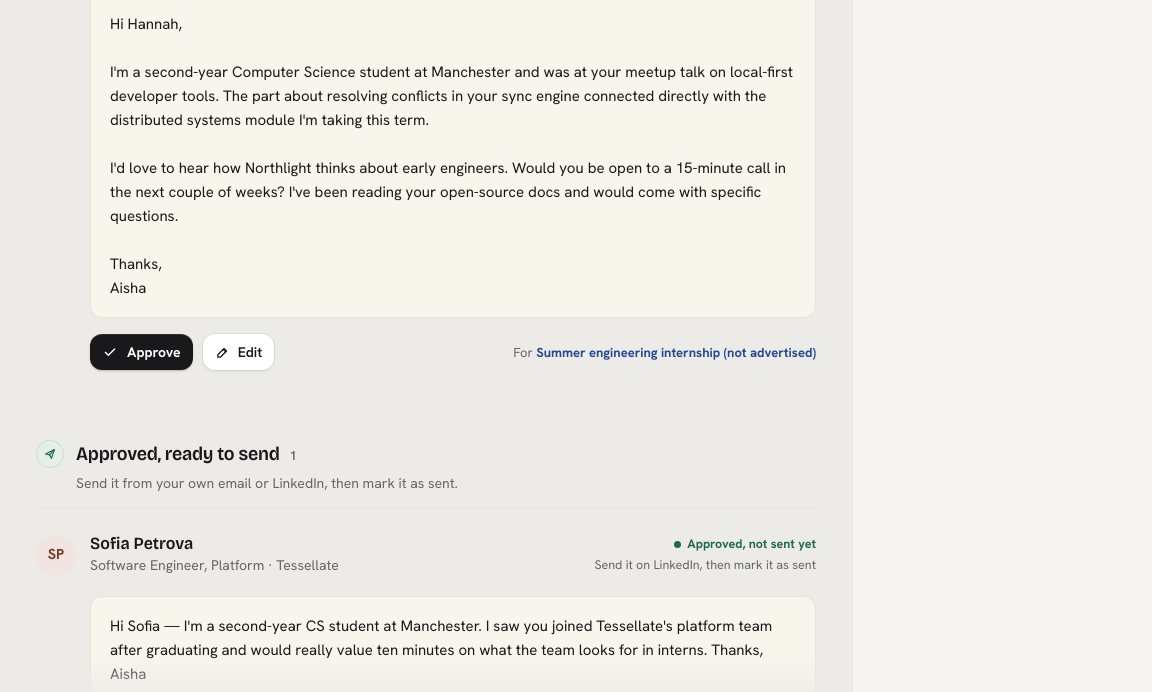
Test case: production Outreach — approval workflow › approving moves it to ready to send; editing it sends it back for approval
This screenshot has width=1152, height=692.
(page scrolled)
Click the button "Approve" at (141, 352), box [90,334,193,370]
(page scrolled)
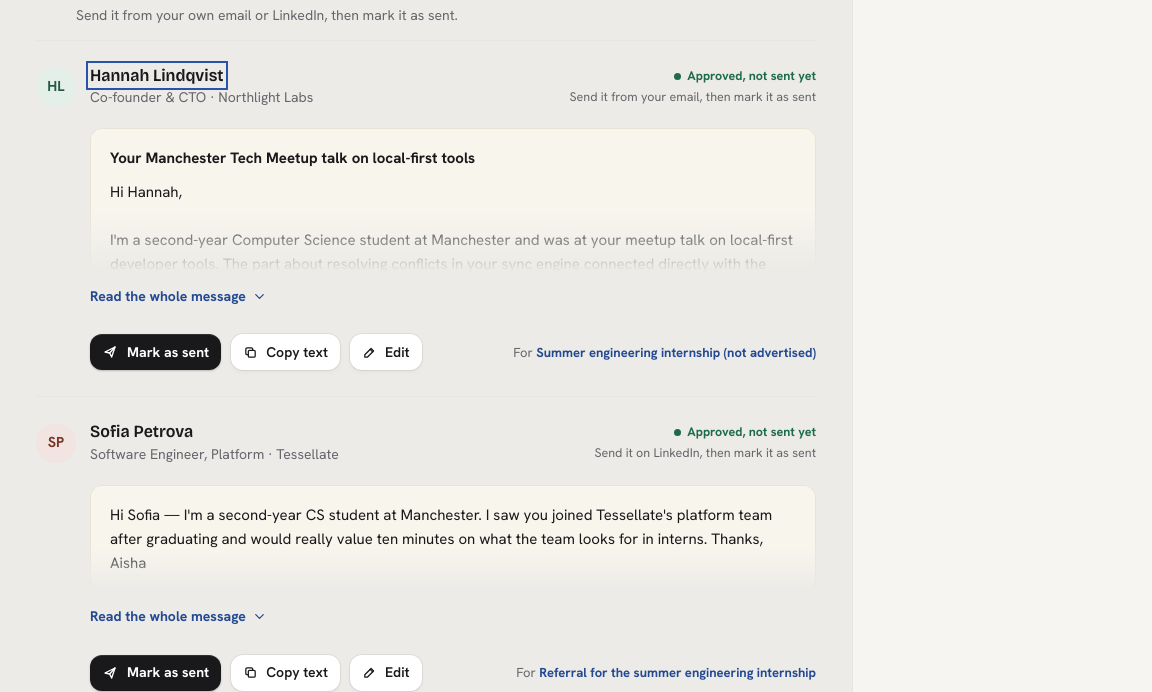
Now the text "Approved, not sent yet" is shown, box [674,67,816,86]
Now the button "Mark as sent" below "Hannah Lindqvist" is shown, box [90,334,221,370]
Now the button "Read the whole message" below "Hannah Lindqvist" is shown, box [90,274,267,318]
Click the button "Edit" below "Hannah Lindqvist" at (386, 352), box [350,334,422,370]
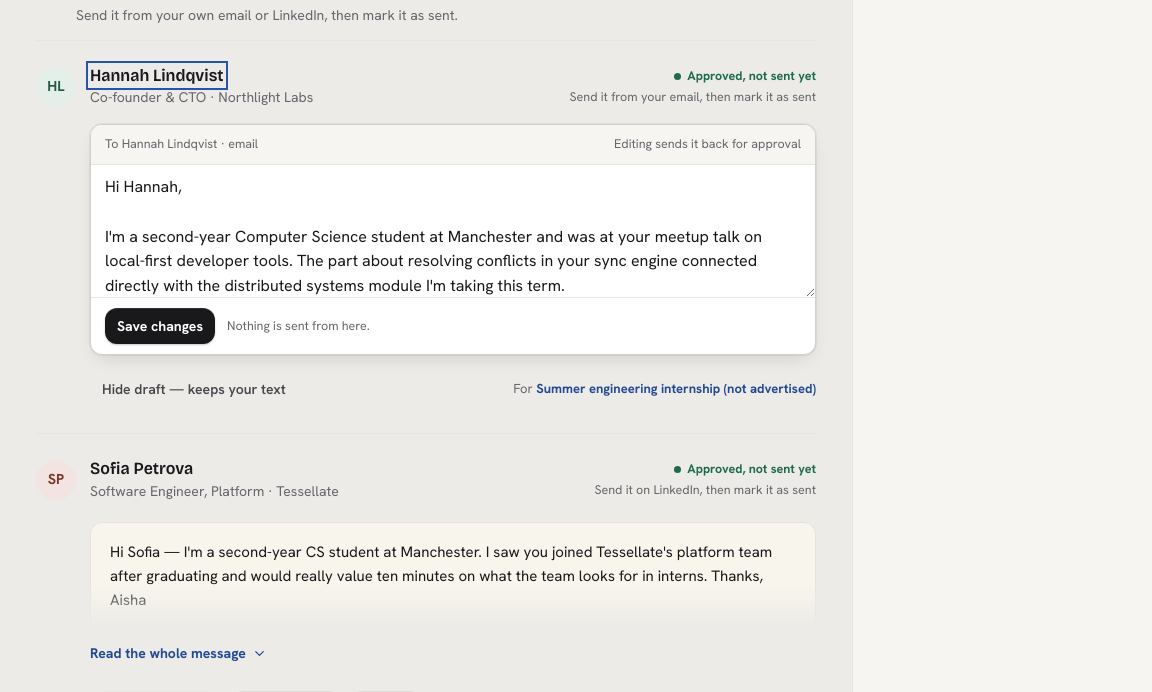
Replace the text in the text box named "Message to Hannah Lindqvist" with "Hi Hannah — a shorter note about your talk on local-first tools." at (453, 231), box [91,165,815,297]
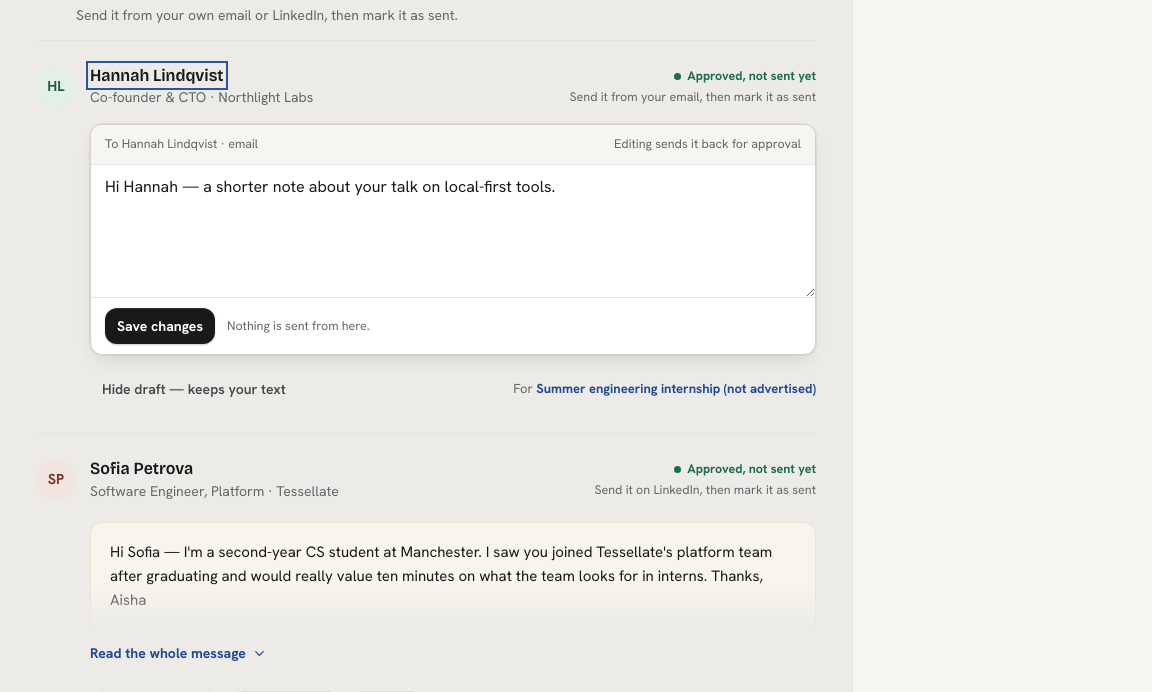
Click the button "Save changes" at (160, 326), box [105,308,215,344]
(page scrolled)
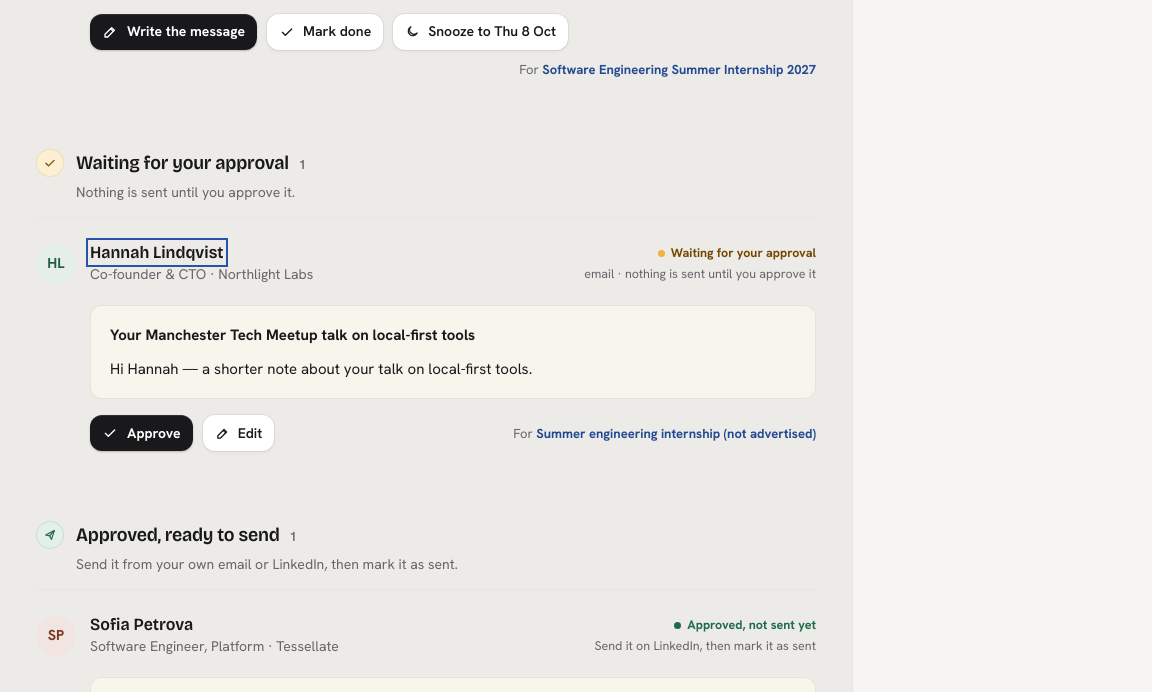
Expected: the button "Mark as sent" is not shown
Now the text "a shorter note about your talk" is shown, box [110,359,532,379]
